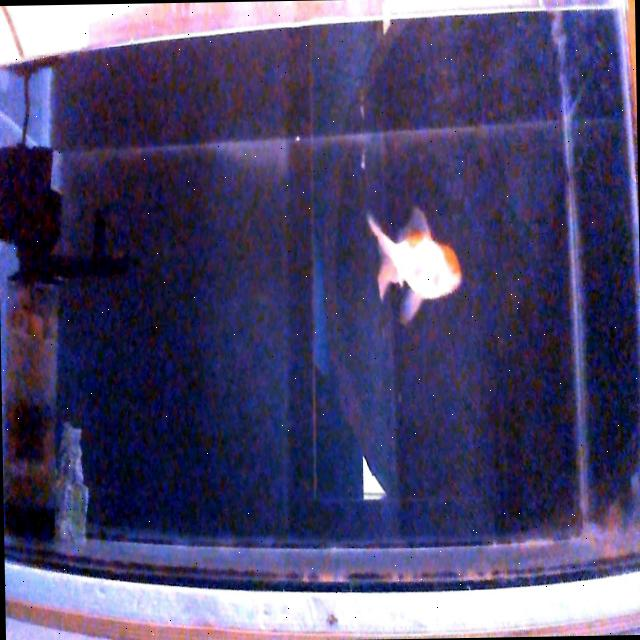fish: (367, 208, 461, 322)
